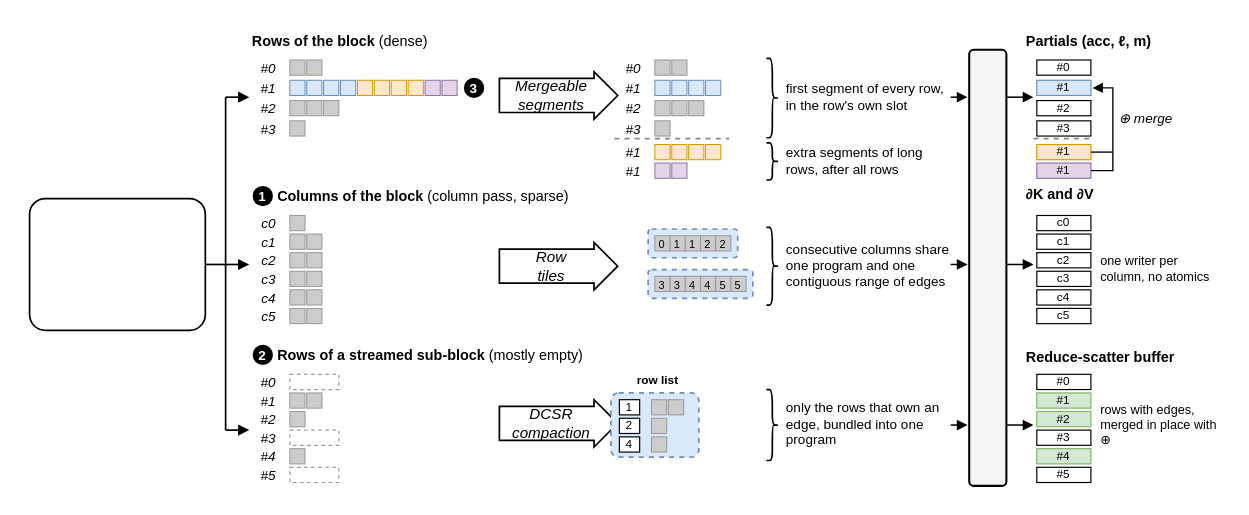
Image size: 1249x515. Some labels were removed from this diagram. The shapes that lost their labels are listed below. From the top down, each one's centre as x and y in pixels, then its label:
At point 116,263: "Per-pass dispatch picks the variant by the edges per row or per column".
At point 987,267: "Compute".
